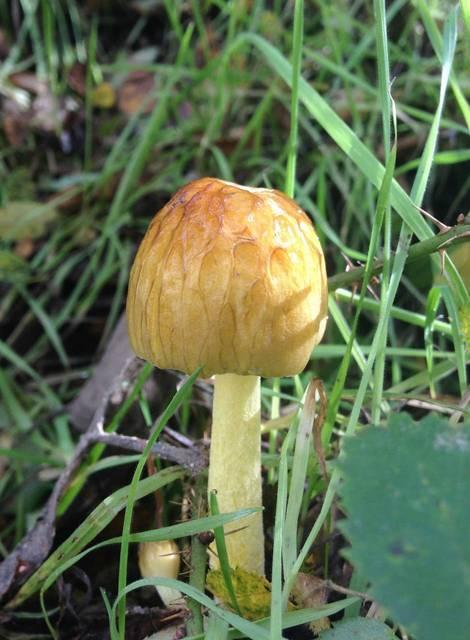edible_mushroom: (124, 175, 329, 590)
